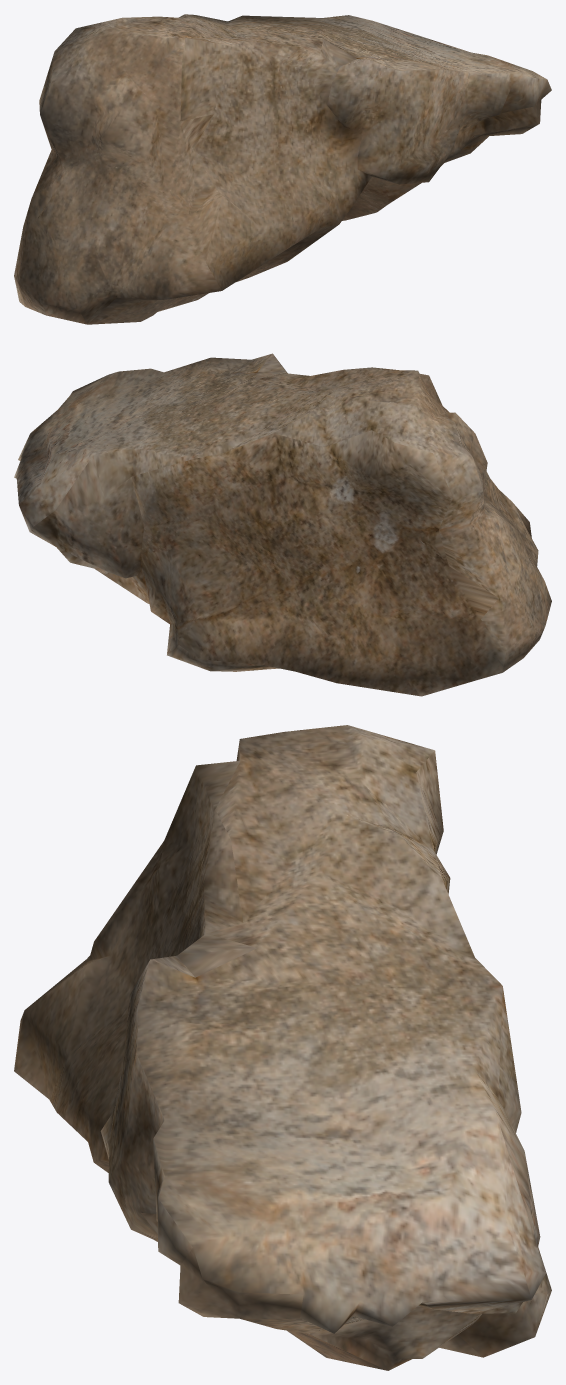
File: nama_pebble_b.glb
The picture shows the model from 3 angles, top to bottom: view 1: azimuth 30°, elevation 25°; view 2: azimuth 150°, elevation 25°; view 3: azimuth 270°, elevation 25°; orthographic projection. The views are drawn at different scales.
Visible parts, largest first — view 1: nama_pebble_b; view 2: nama_pebble_b; view 3: nama_pebble_b.
Part boxes in pixels (left/top/right/bottom): nama_pebble_b: left=14, top=14, right=551, bottom=324; nama_pebble_b: left=14, top=353, right=551, bottom=696; nama_pebble_b: left=14, top=725, right=551, bottom=1370.
Size of the model in its own units: 2.13 by 1.19 by 1.13.
Materials: 1 (1 with a texture image).
